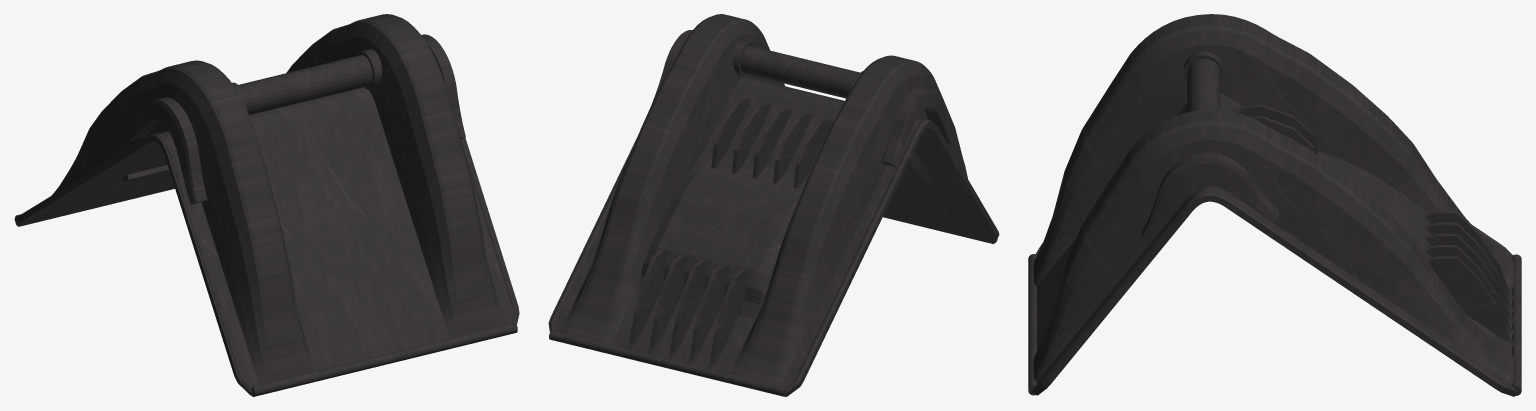
File: Kantenschutz.glb
3 renders of one model, left to right at view 1: azimuth 30°, elevation 25°; view 2: azimuth 150°, elevation 25°; view 3: azimuth 270°, elevation 25°, orthographic. The views are drawn at different scales.
Parts seen in each view (by area): view 1: 01_Durchgehende_gebogene_Grundplatte, 04_Grosse_Fuehrungswange_-1, 04_Grosse_Fuehrungswange_1, 08_Querliegender_gerundeter_Kronensteg, 10_Gerundeter_Scharnierbogen_-1, 03_Endrundung_Kurz, 02_Gerundeter_Seitenrand_-1, 10_Gerundeter_Scharnierbogen_1, 02_Gerundeter_Seitenrand_1, 09_Kronensteg_Endring_1; view 2: 04_Grosse_Fuehrungswange_-1, 04_Grosse_Fuehrungswange_1, 01_Durchgehende_gebogene_Grundplatte, 05_Zentrale_Gurtauflage_auf_der_langen_Seite, 08_Querliegender_gerundeter_Kronensteg, 03_Endrundung_Lang, 10_Gerundeter_Scharnierbogen_-1, 07_Vordere_Stabilisierungsrippe_03, 07_Vordere_Stabilisierungsrippe_05, 07_Vordere_Stabilisierungsrippe_02, 07_Vordere_Stabilisierungsrippe_04, 07_Vordere_Stabilisierungsrippe_01 (+8 smaller); view 3: 04_Grosse_Fuehrungswange_1, 04_Grosse_Fuehrungswange_-1, 01_Durchgehende_gebogene_Grundplatte, 10_Gerundeter_Scharnierbogen_1, 07_Vordere_Stabilisierungsrippe_05, 05_Zentrale_Gurtauflage_auf_der_langen_Seite, 02_Gerundeter_Seitenrand_1, 08_Querliegender_gerundeter_Kronensteg, 03_Endrundung_Lang, 03_Endrundung_Kurz, 07_Vordere_Stabilisierungsrippe_04, 07_Vordere_Stabilisierungsrippe_01 (+5 smaller).
Boxes of the visible parts, x1=… form: 01_Durchgehende_gebogene_Grundplatte: x1=14, y1=87, x2=519, y2=395; 04_Grosse_Fuehrungswange_-1: x1=52, y1=60, x2=315, y2=384; 04_Grosse_Fuehrungswange_1: x1=286, y1=14, x2=506, y2=338; 08_Querliegender_gerundeter_Kronensteg: x1=238, y1=55, x2=372, y2=114; 10_Gerundeter_Scharnierbogen_-1: x1=129, y1=97, x2=207, y2=204; 03_Endrundung_Kurz: x1=251, y1=322, x2=517, y2=396; 02_Gerundeter_Seitenrand_-1: x1=18, y1=133, x2=252, y2=391; 10_Gerundeter_Scharnierbogen_1: x1=421, y1=34, x2=465, y2=138; 02_Gerundeter_Seitenrand_1: x1=460, y1=138, x2=518, y2=323; 09_Kronensteg_Endring_1: x1=356, y1=49, x2=382, y2=89; 04_Grosse_Fuehrungswange_-1: x1=730, y1=55, x2=967, y2=386; 04_Grosse_Fuehrungswange_1: x1=560, y1=14, x2=784, y2=344; 01_Durchgehende_gebogene_Grundplatte: x1=548, y1=76, x2=999, y2=396; 05_Zentrale_Gurtauflage_auf_der_langen_Seite: x1=637, y1=152, x2=807, y2=318; 08_Querliegender_gerundeter_Kronensteg: x1=740, y1=46, x2=859, y2=98; 03_Endrundung_Lang: x1=549, y1=330, x2=787, y2=396; 10_Gerundeter_Scharnierbogen_-1: x1=881, y1=86, x2=951, y2=167; 07_Vordere_Stabilisierungsrippe_03: x1=667, y1=258, x2=709, y2=359; 07_Vordere_Stabilisierungsrippe_05: x1=627, y1=248, x2=669, y2=350; 07_Vordere_Stabilisierungsrippe_02: x1=687, y1=263, x2=729, y2=364; 07_Vordere_Stabilisierungsrippe_04: x1=647, y1=253, x2=689, y2=354; 07_Vordere_Stabilisierungsrippe_01: x1=708, y1=268, x2=750, y2=369; 04_Grosse_Fuehrungswange_1: x1=1033, y1=109, x2=1513, y2=383; 04_Grosse_Fuehrungswange_-1: x1=1033, y1=14, x2=1513, y2=287; 01_Durchgehende_gebogene_Grundplatte: x1=1032, y1=93, x2=1517, y2=396; 10_Gerundeter_Scharnierbogen_1: x1=1142, y1=153, x2=1278, y2=241; 07_Vordere_Stabilisierungsrippe_05: x1=1426, y1=256, x2=1513, y2=345; 05_Zentrale_Gurtauflage_auf_der_langen_Seite: x1=1317, y1=151, x2=1431, y2=258; 02_Gerundeter_Seitenrand_1: x1=1034, y1=192, x2=1515, y2=390; 08_Querliegender_gerundeter_Kronensteg: x1=1187, y1=58, x2=1220, y2=112; 03_Endrundung_Lang: x1=1512, y1=254, x2=1521, y2=395; 03_Endrundung_Kurz: x1=1028, y1=254, x2=1036, y2=395; 07_Vordere_Stabilisierungsrippe_04: x1=1425, y1=245, x2=1513, y2=334; 07_Vordere_Stabilisierungsrippe_01: x1=1425, y1=211, x2=1513, y2=300.
Bounding box in the file's own units: 0.15 × 0.1305 × 0.2214.
Materials: 1 (1 with a texture image).
